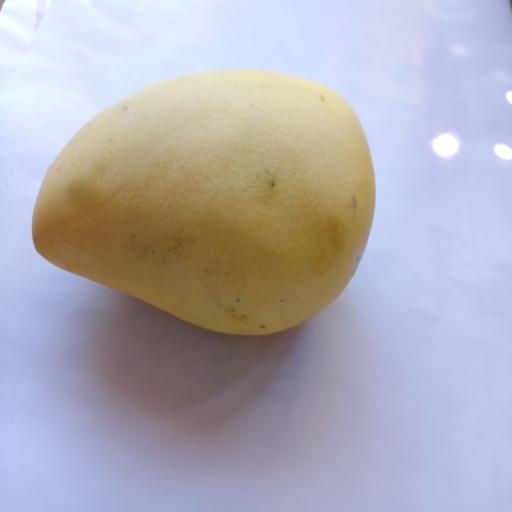mango-ripe: (19, 37, 397, 363)
